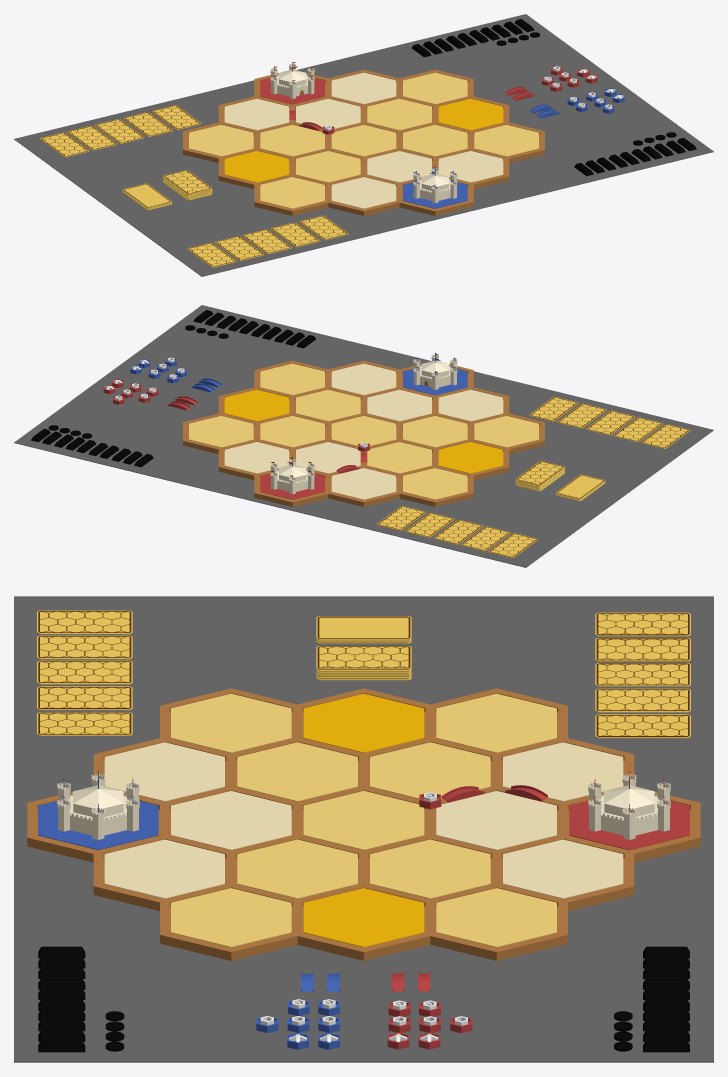
The model's file is r2c_whole2.fbx.
The picture shows the model from 3 angles, top to bottom: view 1: azimuth 30°, elevation 25°; view 2: azimuth 150°, elevation 25°; view 3: azimuth 270°, elevation 25°; orthographic projection. The views are drawn at different scales.
Parts seen in each view (by area): view 1: 개체_604, 개체_685, 개체_608, 개체_25, 개체_16, 개체_22, 개체_27, 개체_13, 개체_20, 개체_24, 개체_14, 개체_15 (+11 smaller); view 2: 개체_604, 개체_685, 개체_608, 개체_11, 개체_16, 개체_13, 개체_27, 개체_22, 개체_19, 개체_12, 개체_10, 개체_17 (+11 smaller); view 3: 개체_604, 개체_685, 개체_16, 개체_27, 개체_20, 개체_15, 개체_19, 개체_24, 개체_10, 개체_14, 개체_17, 개체_26 (+15 smaller).
Boxes of the visible parts, x1,y1,x2,y2 form: 개체_604: (14,14,713,276); 개체_685: (183,69,544,213); 개체_608: (183,82,544,215); 개체_25: (331,72,396,104); 개체_16: (224,151,289,182); 개체_22: (224,98,289,130); 개체_27: (438,98,503,130); 개체_13: (331,177,396,208); 개체_20: (331,125,396,156); 개체_24: (367,98,431,130); 개체_14: (260,177,324,208); 개체_15: (296,151,360,182); 개체_604: (14,305,713,567); 개체_685: (183,360,544,504); 개체_608: (183,373,544,506); 개체_11: (331,363,396,395); 개체_16: (438,442,503,473); 개체_13: (438,389,503,421); 개체_27: (224,389,289,421); 개체_22: (331,468,396,499); 개체_19: (296,389,360,421); 개체_12: (367,389,431,421); 개체_10: (260,363,324,395); 개체_17: (403,468,467,499); 개체_604: (14,596,713,1062); 개체_685: (27,688,700,956); 개체_16: (303,693,424,752); 개체_27: (303,888,424,947); 개체_20: (303,791,424,850); 개체_15: (237,742,357,801); 개체_19: (237,839,357,898); 개체_24: (370,839,490,898); 개체_10: (171,888,291,947); 개체_14: (171,693,291,752); 개체_17: (436,693,556,752); 개체_26: (436,888,556,947).
Bounding box in the file's own units: 227 × 11.56 × 144.
